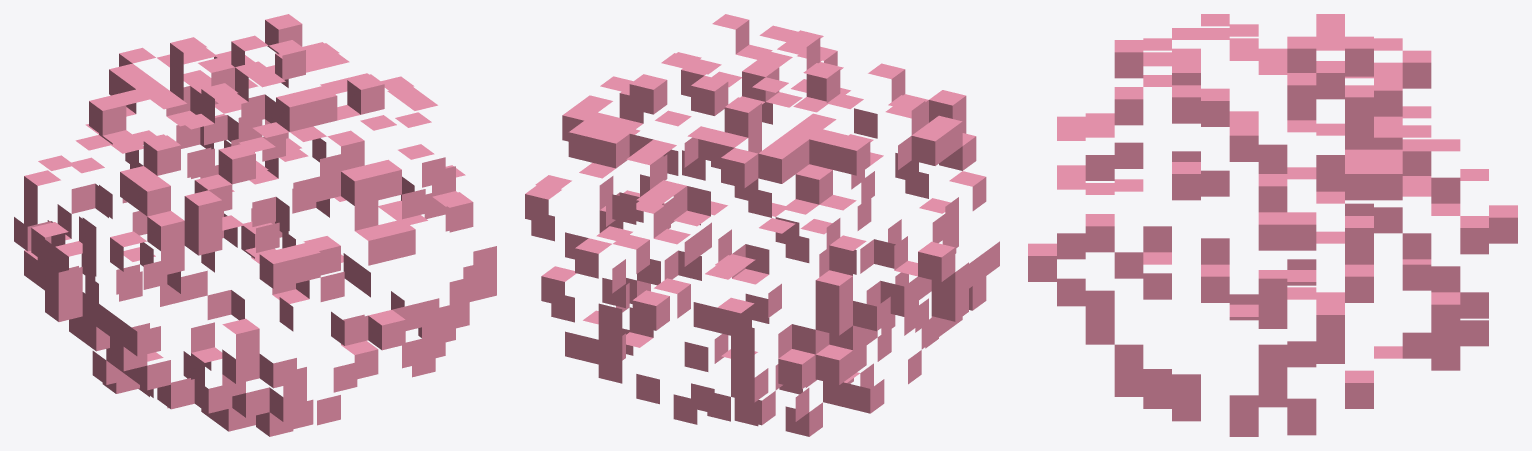
File: tree-cherry-1p25-pink2-ff9dbb.gltf
The picture shows the model from 3 angles, left to right: view 1: azimuth 30°, elevation 25°; view 2: azimuth 150°, elevation 25°; view 3: azimuth 270°, elevation 25°; orthographic projection. The views are drawn at different scales.
Parts seen in each view (by area): view 1: tree-cherry-1p25-pink2-ff9dbb; view 2: tree-cherry-1p25-pink2-ff9dbb; view 3: tree-cherry-1p25-pink2-ff9dbb.
Boxes of the visible parts, x1,y1,x2,y2 form: tree-cherry-1p25-pink2-ff9dbb: (14, 14, 496, 436); tree-cherry-1p25-pink2-ff9dbb: (525, 14, 999, 436); tree-cherry-1p25-pink2-ff9dbb: (1028, 14, 1517, 436).
Bounding box in the file's own units: 17 × 13 × 17.
